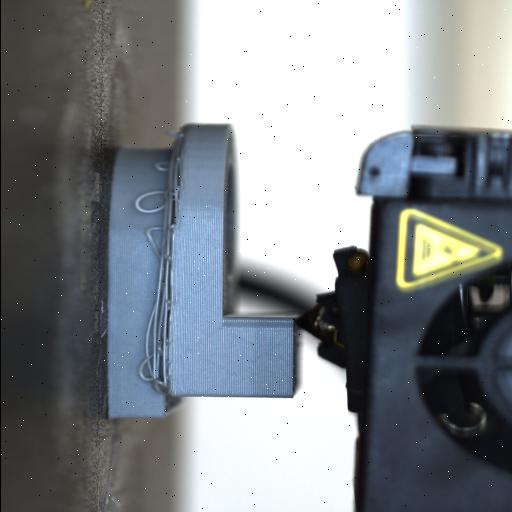layer_shift: (154, 123, 184, 419)
